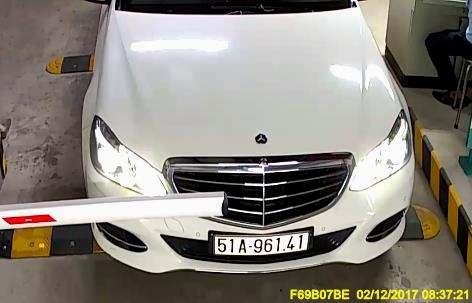plate: (214, 226, 313, 256)
